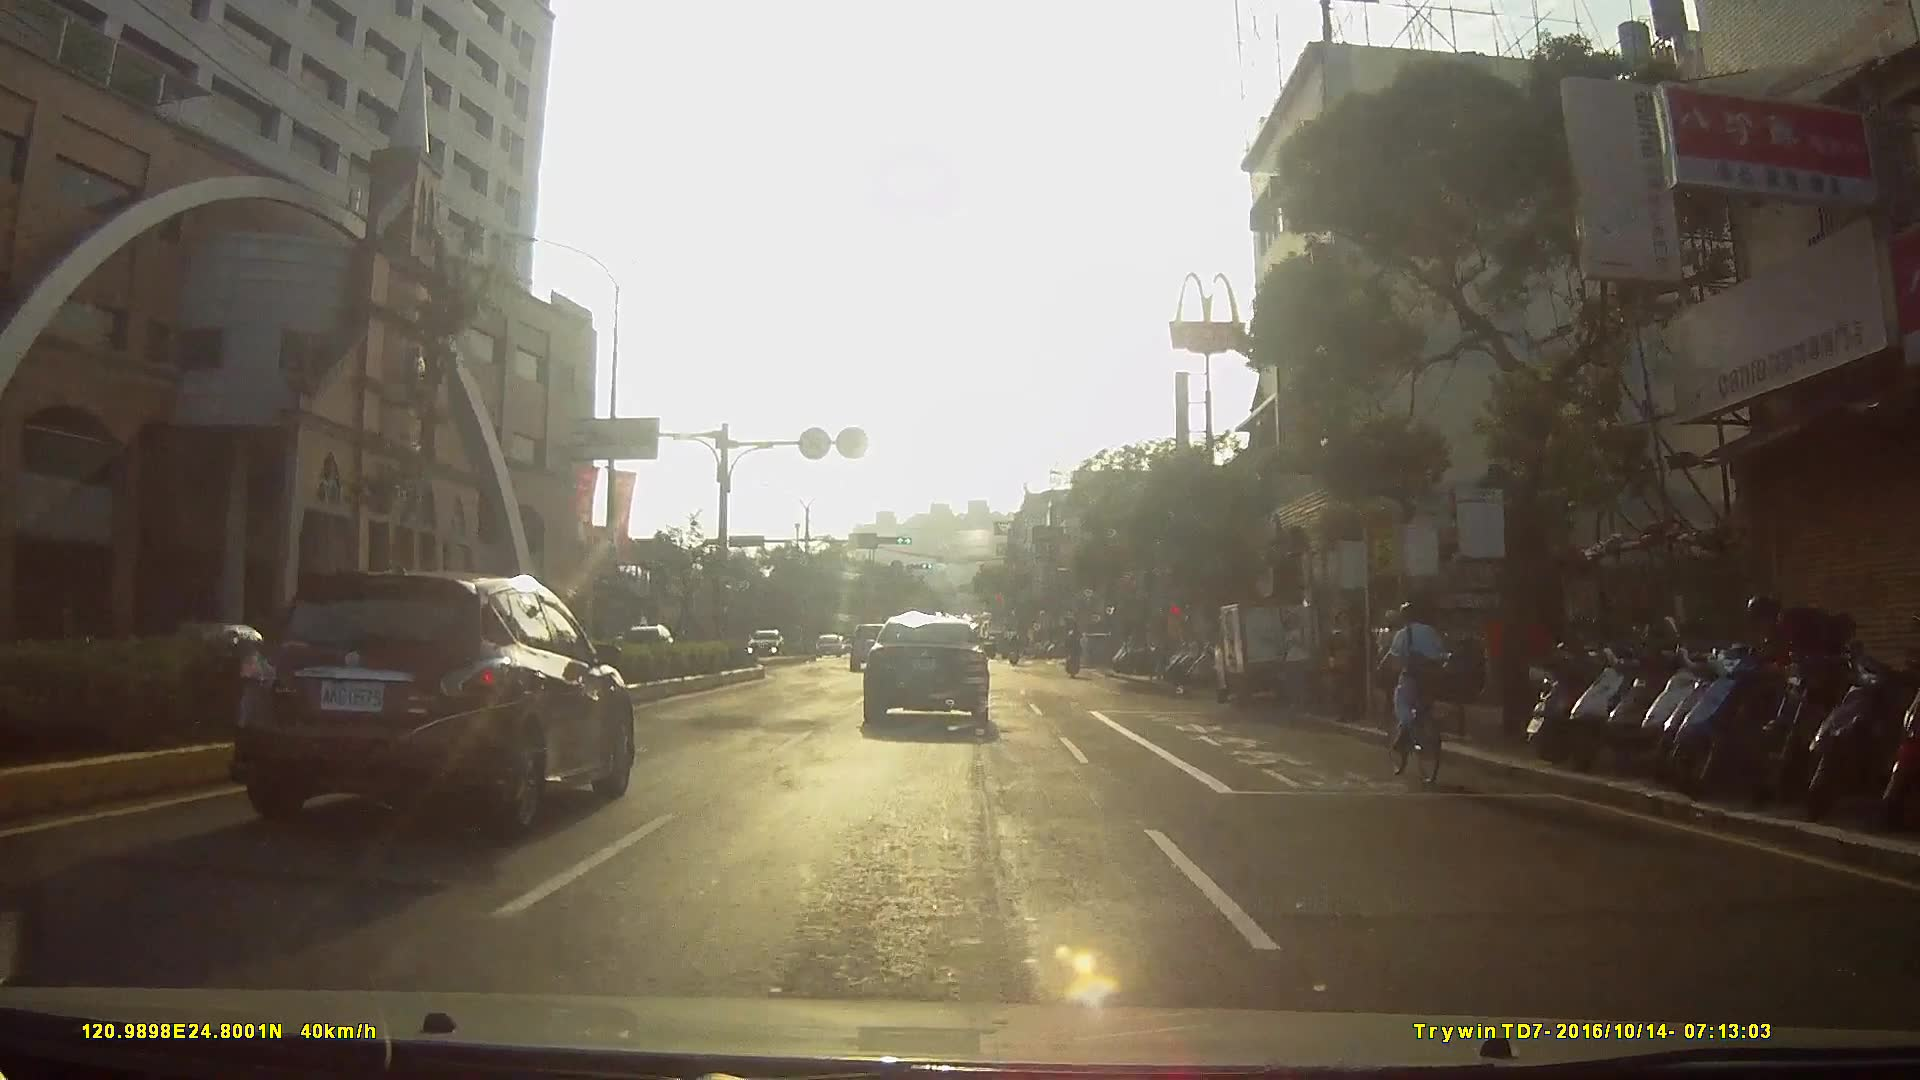pedestrian: (1376, 609, 1423, 730), (1278, 603, 1316, 722)
rider: (1368, 604, 1451, 791), (1065, 626, 1089, 681)
vehicle: (218, 563, 647, 833), (861, 610, 1007, 737), (1219, 591, 1346, 708), (846, 617, 905, 671), (743, 626, 789, 658), (810, 629, 839, 657)
